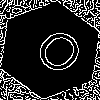O: (25, 25, 88, 85)
